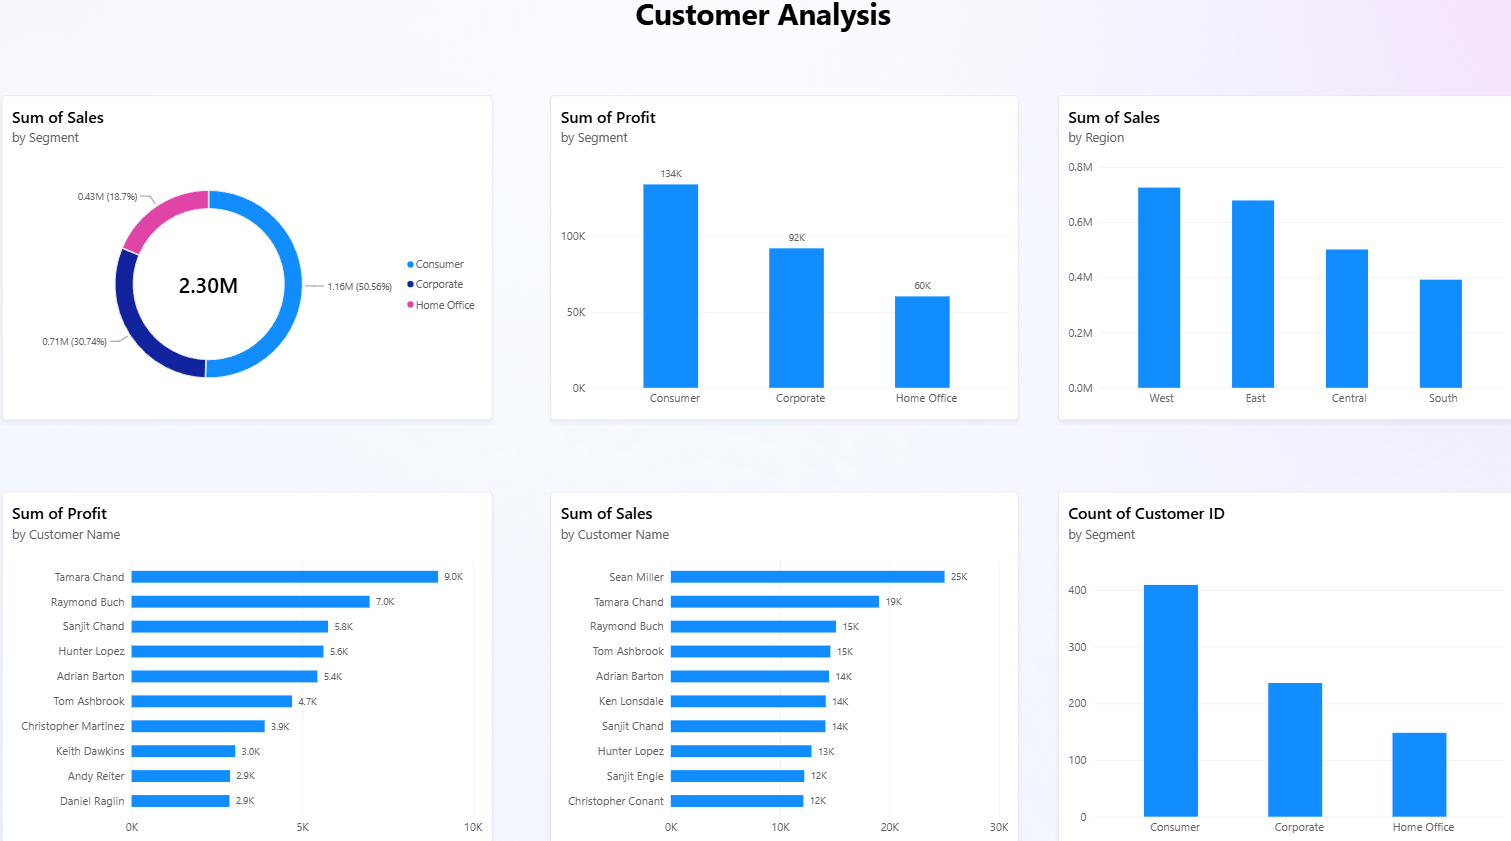

The page's visual inventory and layout, read from the dashboard file:
{"tool":"powerbi","page":{"name":"Customer Analysis","canvas":[1920,1080],"ordinal":2},"visuals":[{"type":"donutChart","fields":{"Category":["superstore_cleaned(1).Segment"],"Y":["Sum(superstore_cleaned(1).Sales)"]},"box":[10.3,129.7,619.6,409.6],"z":0},{"type":"clusteredBarChart","fields":{"Category":["superstore_cleaned(1).Customer Name"],"Y":["Sum(superstore_cleaned(1).Sales)"]},"box":[703.9,629.8,590.7,450.8],"z":1},{"type":"clusteredBarChart","fields":{"Category":["superstore_cleaned(1).Customer Name"],"Y":["Sum(superstore_cleaned(1).Profit)"]},"box":[10.3,629.8,619.6,450.8],"z":2},{"type":"clusteredColumnChart","fields":{"Category":["superstore_cleaned(1).Region"],"Y":["Sum(superstore_cleaned(1).Sales)"]},"box":[1344.1,129.7,576.3,409.6],"z":3},{"type":"clusteredColumnChart","fields":{"Category":["superstore_cleaned(1).Segment"],"Y":["Count(superstore_cleaned(1).Customer ID)"]},"box":[1344.1,629.8,576.3,450.8],"z":4},{"type":"clusteredColumnChart","fields":{"Category":["superstore_cleaned(1).Segment"],"Y":["Sum(superstore_cleaned(1).Profit)"]},"box":[703.9,129.7,590.7,409.6],"z":5},{"type":"textbox","box":[811,0,743.1,100.9],"z":6}]}

Visuals, with their boxes in screenshot pixels (x1, y1, x2, y2), scaled from the page's 1920x1080 canvas onto the 1511x841 screenshot:
donutChart - superstore_cleaned(1).Segment x Sum(superstore_cleaned(1).Sales): [x1=8, y1=101, x2=496, y2=420]
clusteredBarChart - superstore_cleaned(1).Customer Name x Sum(superstore_cleaned(1).Sales): [x1=554, y1=490, x2=1019, y2=840]
clusteredBarChart - superstore_cleaned(1).Customer Name x Sum(superstore_cleaned(1).Profit): [x1=8, y1=490, x2=496, y2=840]
clusteredColumnChart - superstore_cleaned(1).Region x Sum(superstore_cleaned(1).Sales): [x1=1058, y1=101, x2=1510, y2=420]
clusteredColumnChart - superstore_cleaned(1).Segment x Count(superstore_cleaned(1).Customer ID): [x1=1058, y1=490, x2=1510, y2=840]
clusteredColumnChart - superstore_cleaned(1).Segment x Sum(superstore_cleaned(1).Profit): [x1=554, y1=101, x2=1019, y2=420]
textbox: [x1=638, y1=0, x2=1223, y2=79]
